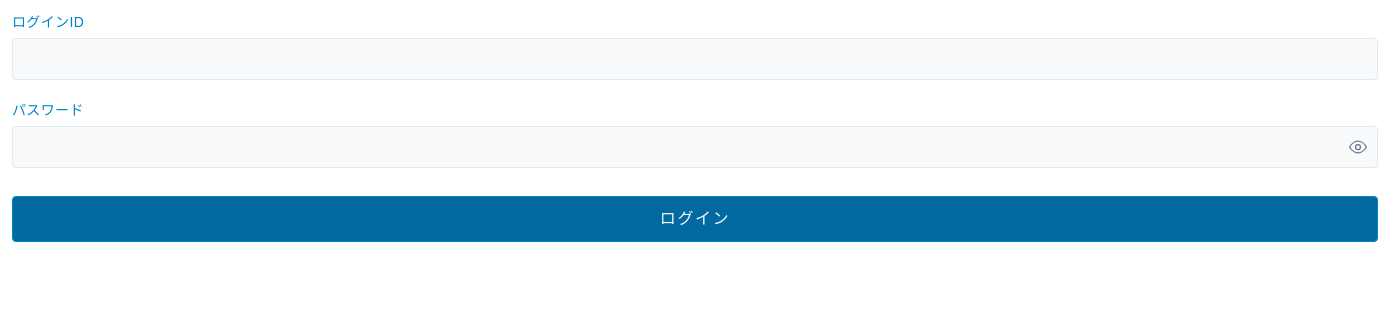
Scenario: LoginForm › 未入力で送信すると必須エラーを表示し、Server Actionを呼ばない
Click the button "ログイン".
click(695, 219)  # box [12,196,1378,242]
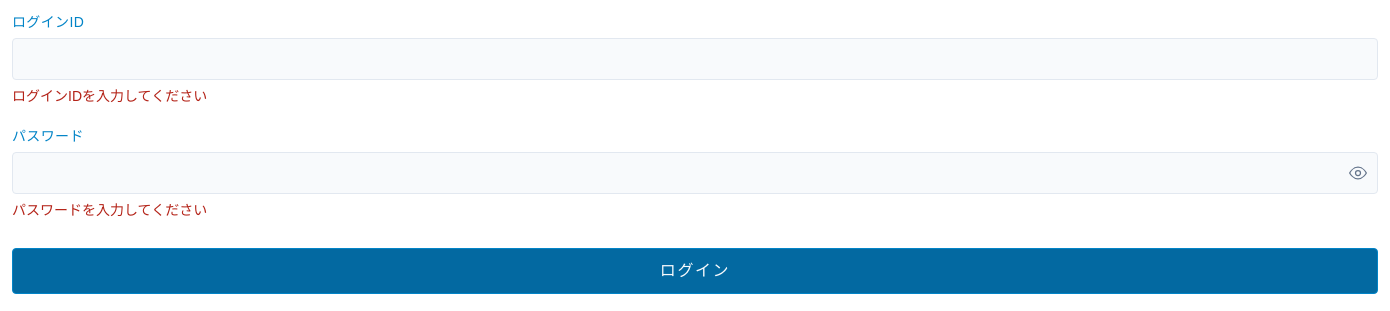
expect the text "ログインIDを入力してください" is shown: met, box [12,88,207,104]
expect the text "パスワードを入力してください" is shown: met, box [12,202,207,218]
